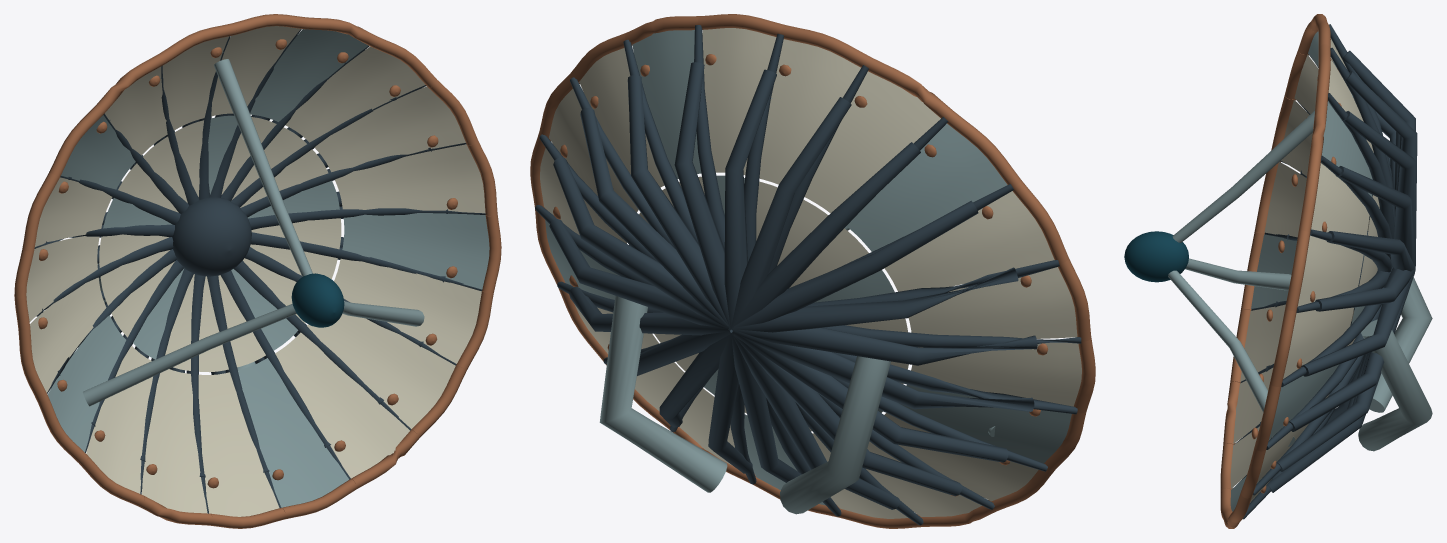
Rendered from survey_dish.glb.
The picture shows the model from 3 angles, left to right: view 1: azimuth 30°, elevation 25°; view 2: azimuth 150°, elevation 25°; view 3: azimuth 270°, elevation 25°; orthographic projection. The views are drawn at different scales.
Parts seen in each view (by area): view 1: survey_dish; view 2: survey_dish; view 3: survey_dish.
Boxes of the visible parts, left/top/right/bottom form: survey_dish: left=14, top=14, right=501, bottom=528; survey_dish: left=530, top=14, right=1095, bottom=528; survey_dish: left=1124, top=14, right=1432, bottom=528.
Size of the model in its own units: 8.8 by 8.08 by 4.95.
